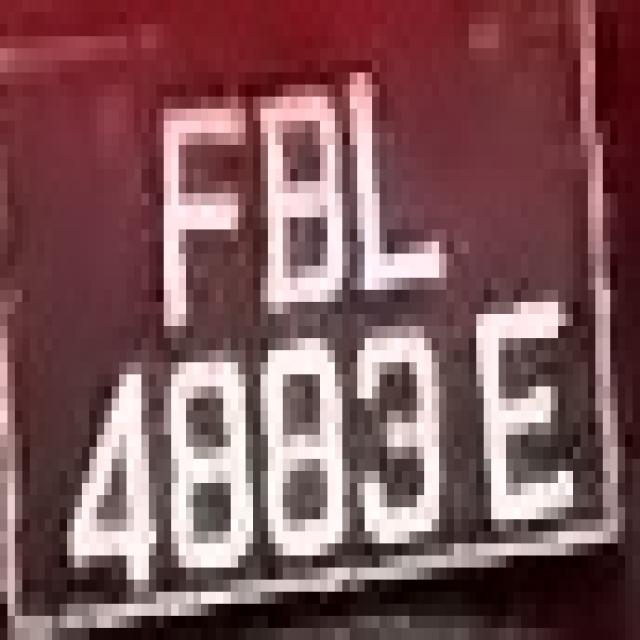3: (342, 302, 447, 580)
4: (52, 338, 156, 592)
8: (246, 290, 350, 592), (156, 326, 253, 592)
B: (253, 61, 350, 350)
E: (454, 290, 580, 580)
F: (141, 60, 253, 338)
L: (335, 48, 461, 314)
